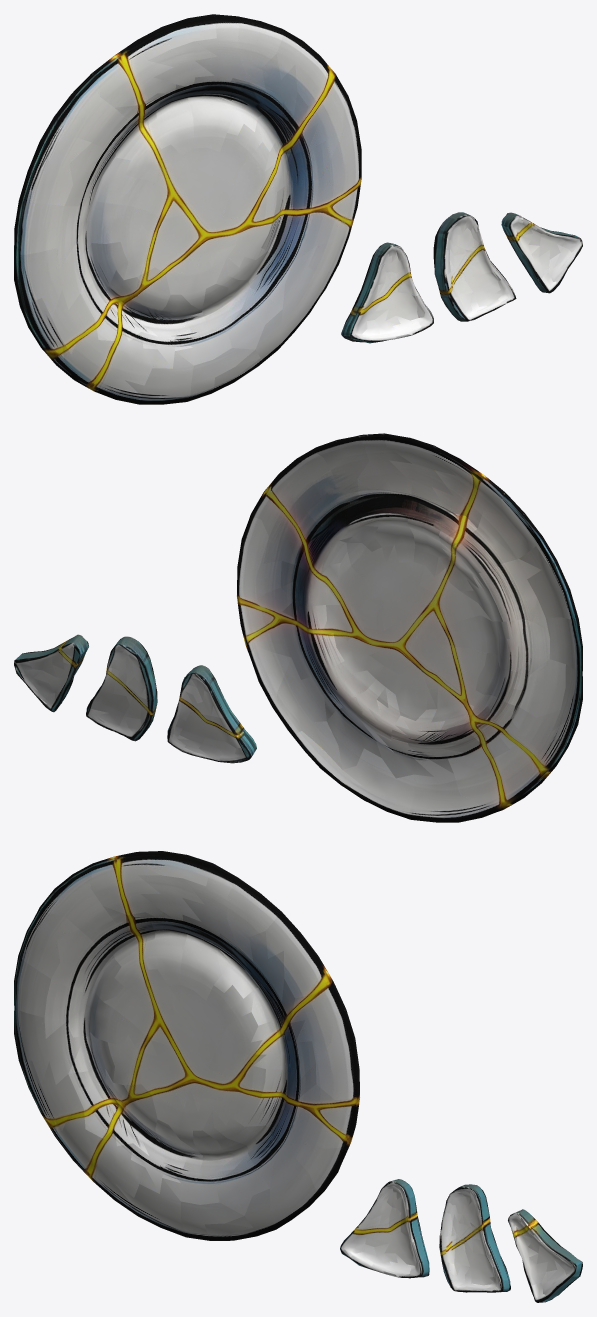
The model's file is shard_court.glb.
The picture shows the model from 3 angles, top to bottom: view 1: azimuth 30°, elevation 25°; view 2: azimuth 150°, elevation 25°; view 3: azimuth 330°, elevation 25°; orthographic projection.
Size of the model in its own units: 1 by 0.6484 by 0.0514.
Materials: 1 (1 with a texture image).
